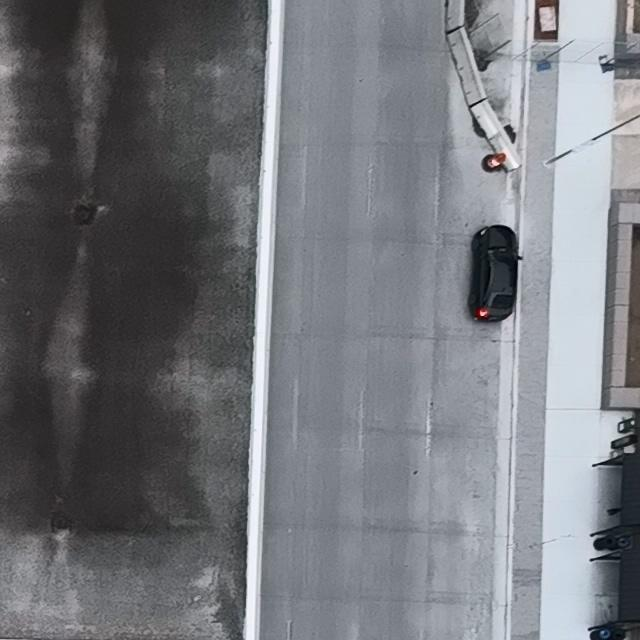car: (468, 223, 523, 323)
